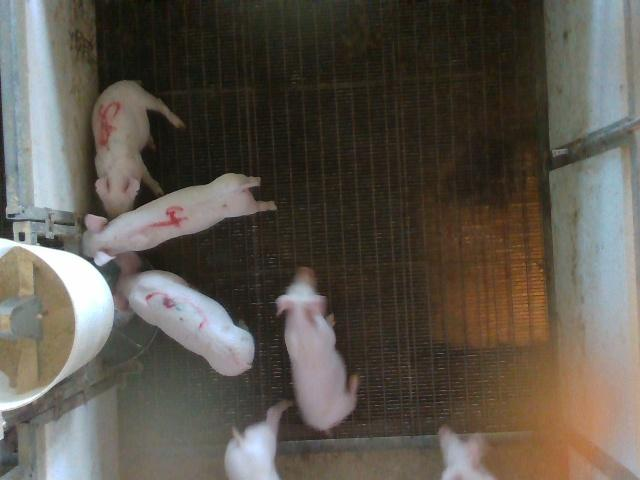pig-3: (115, 252, 255, 376)
pig-4: (82, 174, 276, 265)
pig-5: (92, 80, 184, 218)
